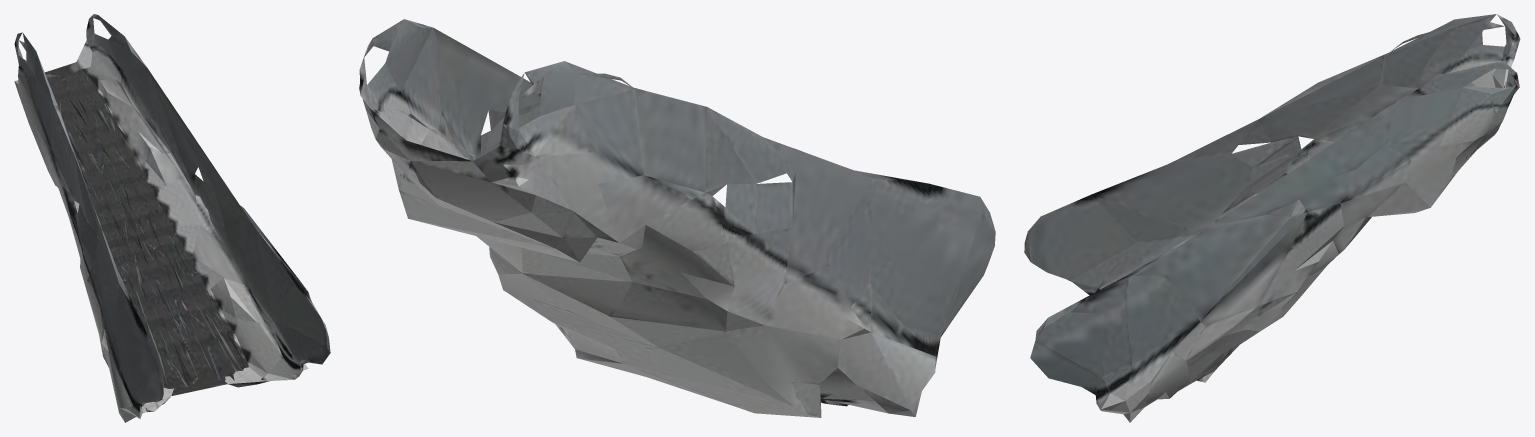
File: mall_escalator_low.glb
3 renders of one model, left to right at view 1: azimuth 30°, elevation 25°; view 2: azimuth 150°, elevation 25°; view 3: azimuth 270°, elevation 25°, orthographic. The views are drawn at different scales.
Parts seen in each view (by area): view 1: output_unwrapped; view 2: output_unwrapped; view 3: output_unwrapped.
Boxes of the visible parts, box(x1,y1,x2,y2) form: output_unwrapped: box(14, 14, 330, 422); output_unwrapped: box(359, 19, 995, 417); output_unwrapped: box(1024, 14, 1520, 422).
Size of the model in its own units: 3.89 by 5.6 by 7.42.
1 material, 1 textured.
